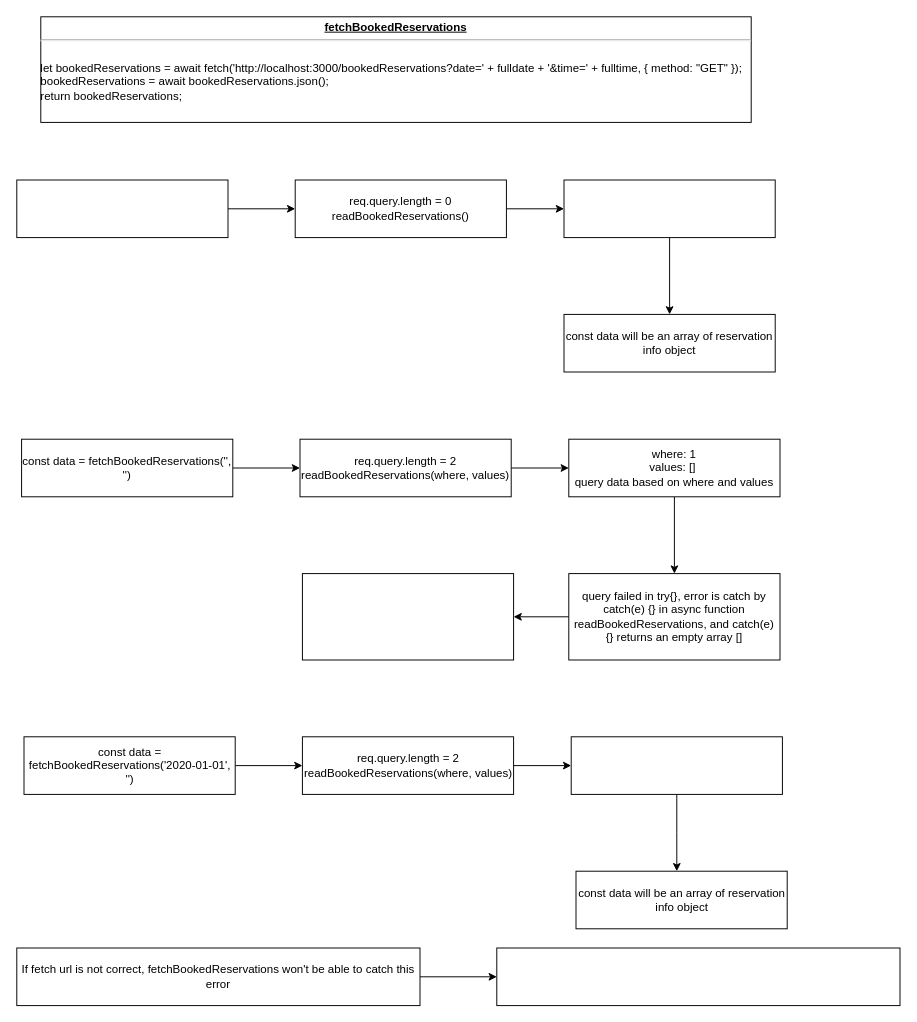
This 917x1022 diagram has some shape labels left out. The centre of each missing label's shape, as x and y in pixels:
const data = fetchBookedReservations(): pixel 122 208
const data will be an empty array []: pixel 407 616
no argument passed in: query all data when no condition added: pixel 669 208
This is when fetchBookedReservations returns bad status code: pixel 698 976
where: "date=$1" values: ['2020-0101'] query data based on where and values: pixel 676 765
